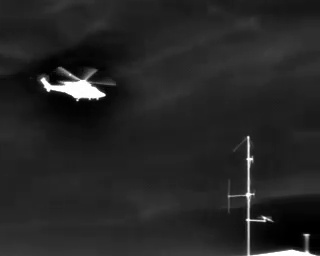HELICOPTER: (37, 60, 121, 109)
